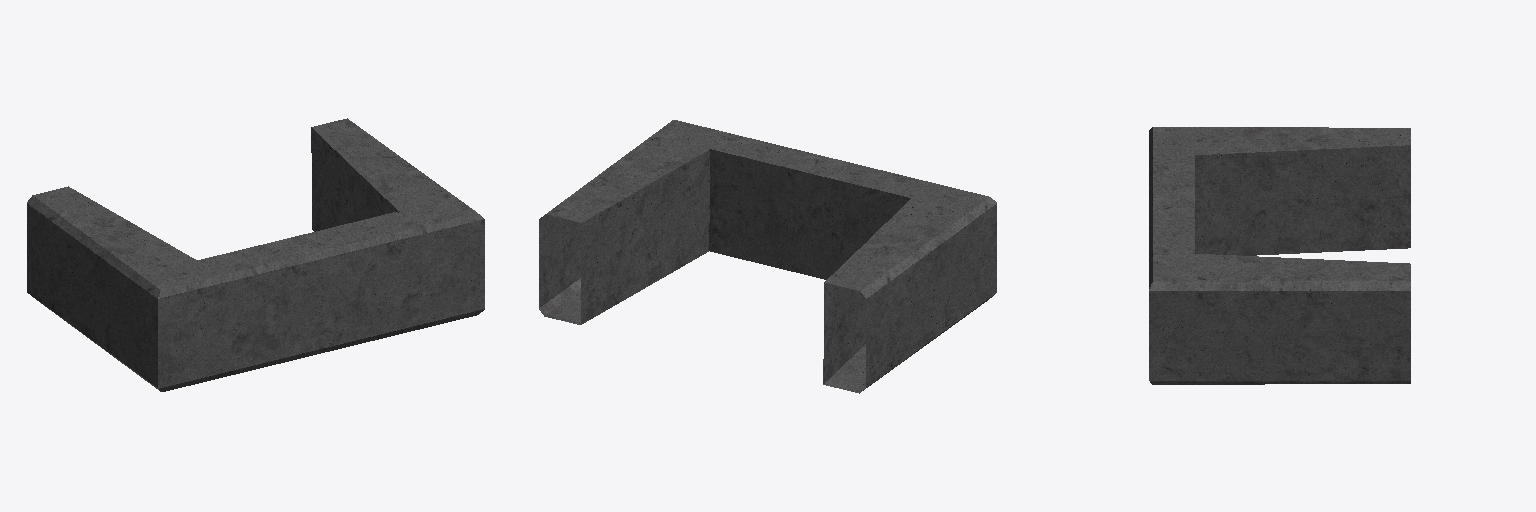
The picture shows the model from 3 angles: view 1: azimuth 30°, elevation 25°; view 2: azimuth 150°, elevation 25°; view 3: azimuth 270°, elevation 25°; orthographic projection.
Size of the model in its own units: 722 by 216 by 500.
Materials: 1 (1 with a texture image).